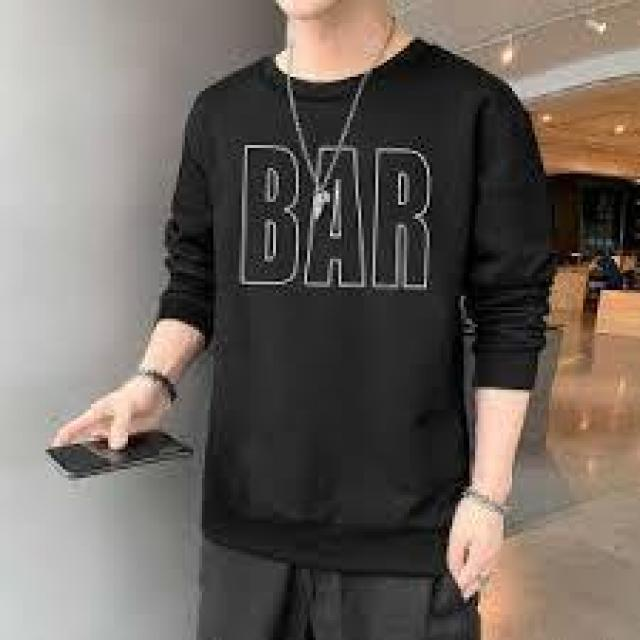sweater: (154, 38, 552, 579)
